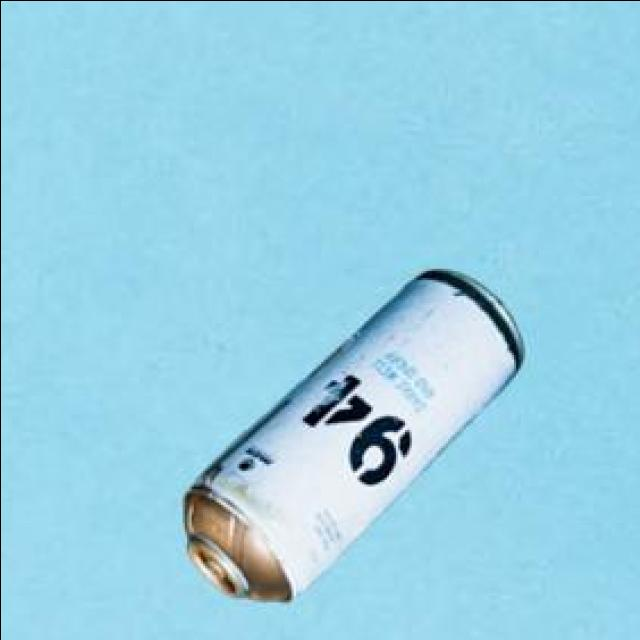logam: (180, 267, 519, 598)
